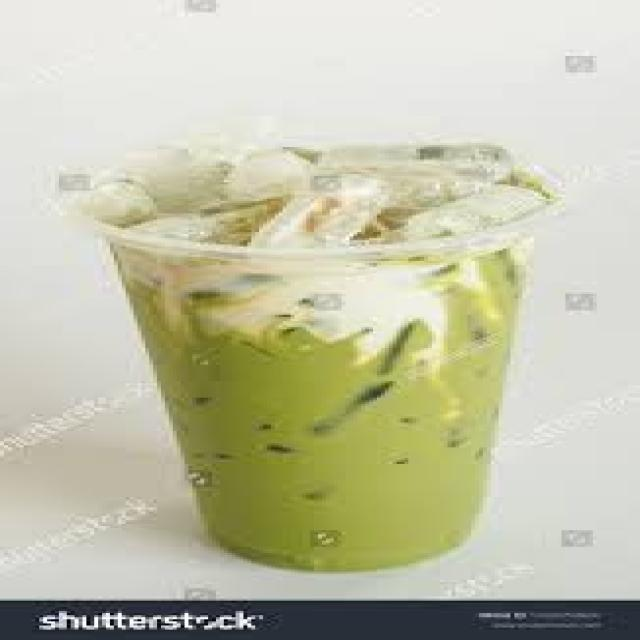bottle: (101, 223, 526, 569)
